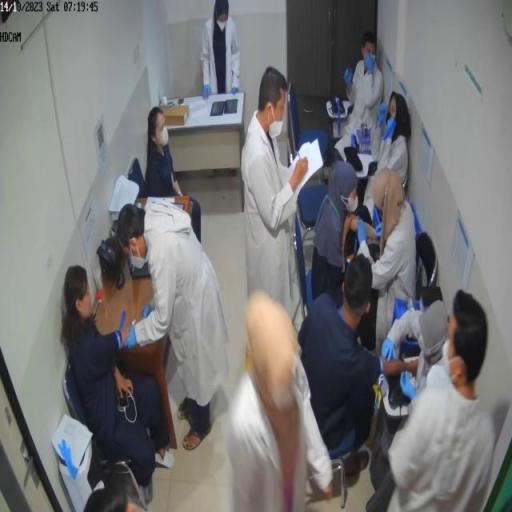person: (116, 201, 231, 452), (62, 266, 171, 500), (299, 257, 419, 468), (387, 291, 497, 512), (228, 291, 334, 512), (242, 69, 310, 315), (372, 301, 451, 488), (356, 168, 419, 352), (312, 162, 372, 308), (146, 108, 203, 243), (361, 94, 413, 221), (343, 31, 385, 139), (202, 1, 242, 99)
